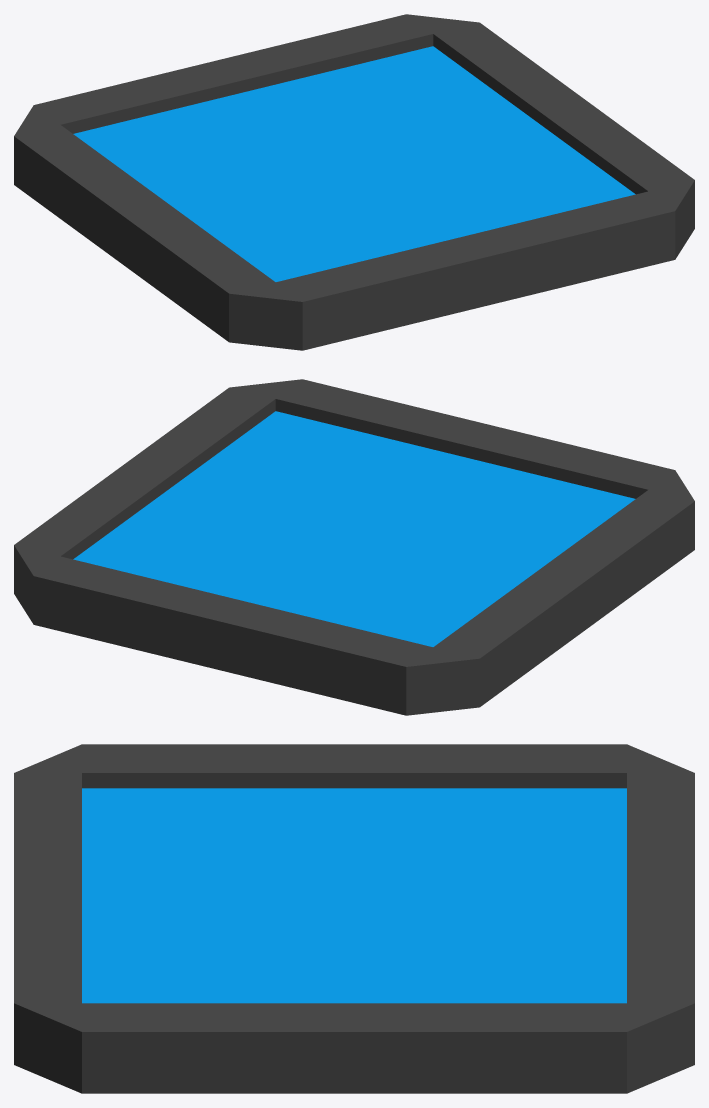
The model's file is Power_A.fbx.
3 views of the same model, one above another, from view 1: azimuth 30°, elevation 25°; view 2: azimuth 150°, elevation 25°; view 3: azimuth 270°, elevation 25° (orthographic). The views are drawn at different scales.
Visible parts, largest first — view 1: Cube; view 2: Cube; view 3: Cube.
Part boxes in pixels (left/top/right/bottom): Cube: left=14, top=14, right=694, bottom=350; Cube: left=14, top=379, right=694, bottom=715; Cube: left=14, top=744, right=694, bottom=1093.
Size of the model in its own units: 10000 by 10000 by 1000.
